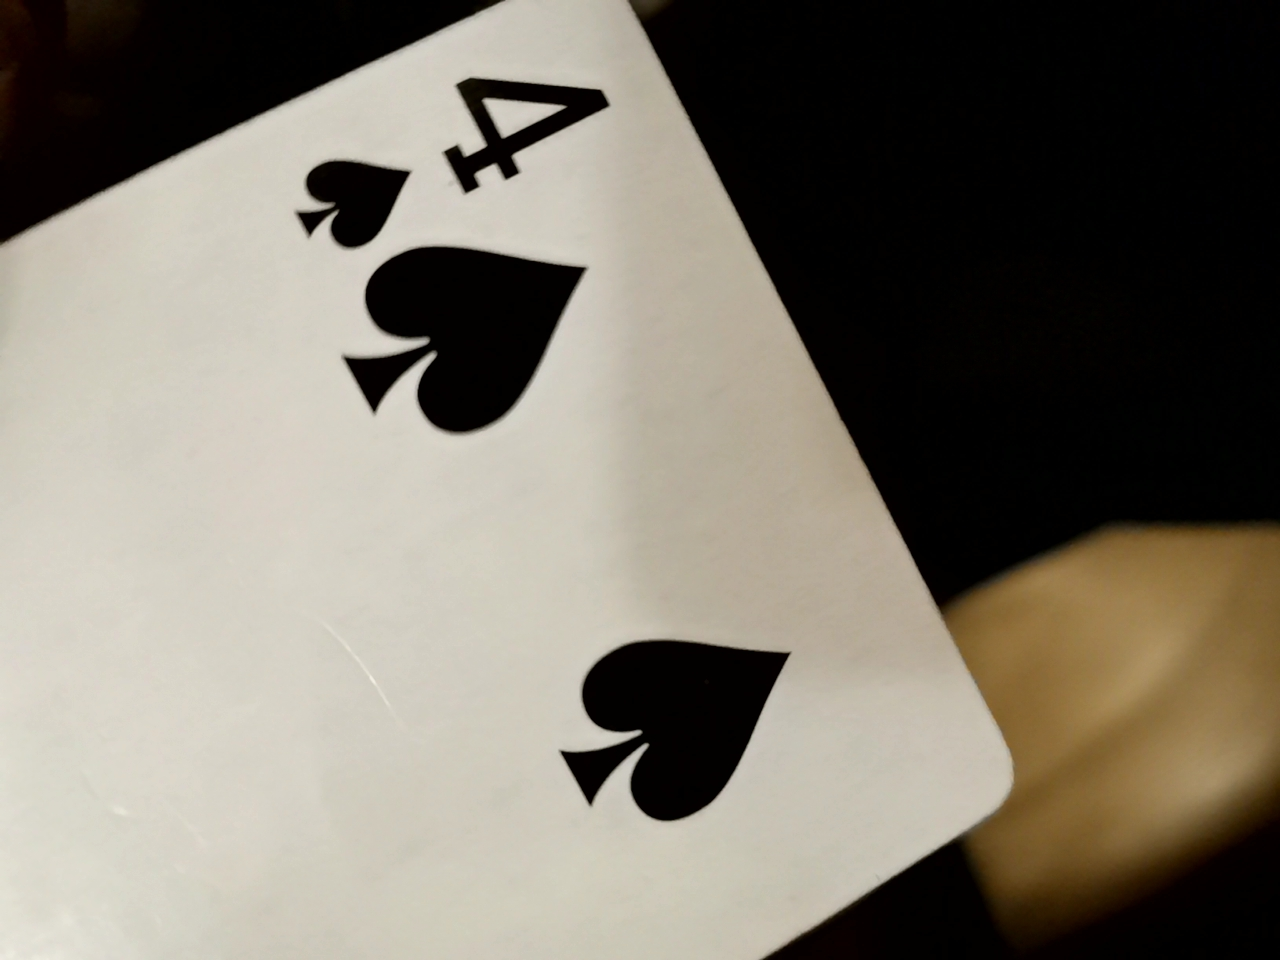ht 4: (7, 17, 1038, 958)
